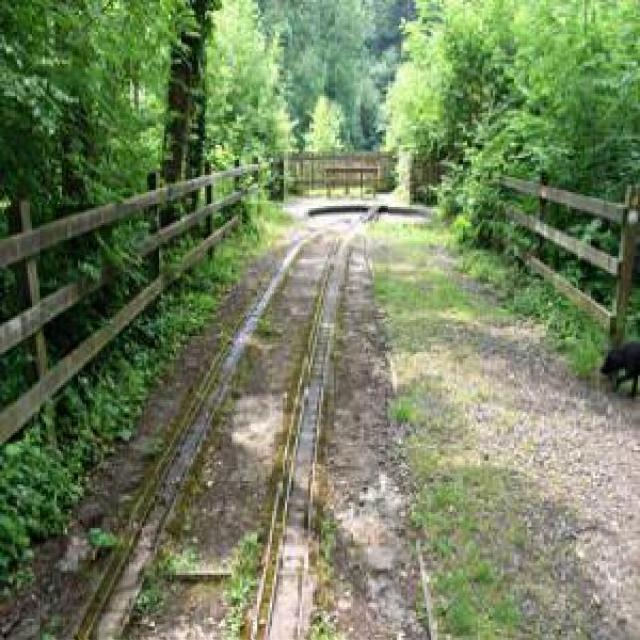rail: (42, 205, 389, 640)
